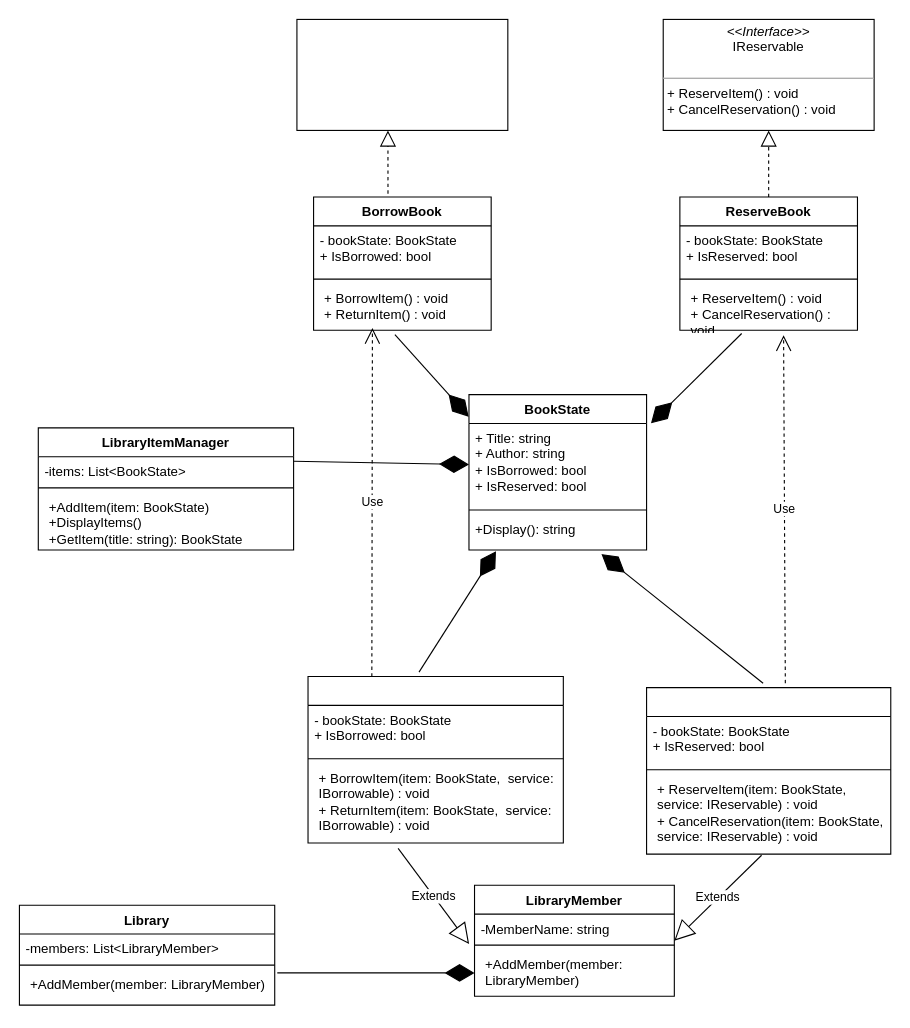
Some shapes in this 910 by 1028 pixel diagram are drawn without their labels. Each missing label, with the box of its shape:
<<Interface>> IBorrowable + BorrowItem() : void + ReturnItem() : void: (296, 18, 508, 130)
BorrowMember: (307, 675, 563, 843)
ReserveMember: (645, 687, 891, 854)
